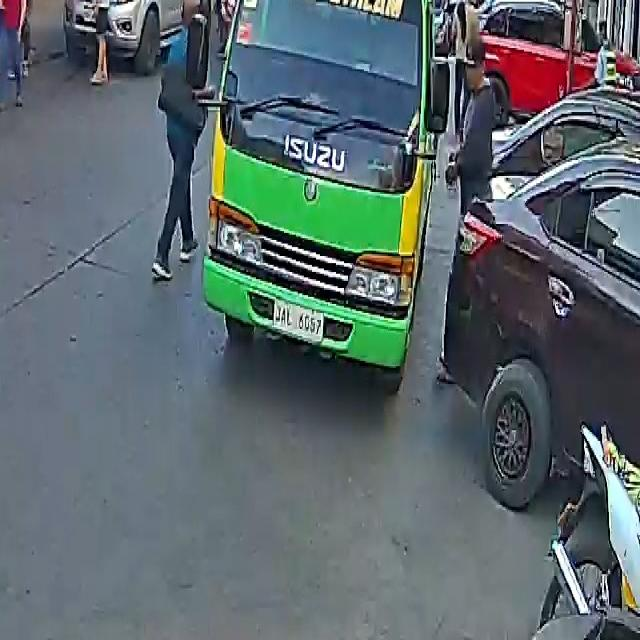car: (442, 74, 640, 516), (476, 0, 632, 123), (64, 0, 209, 76)
